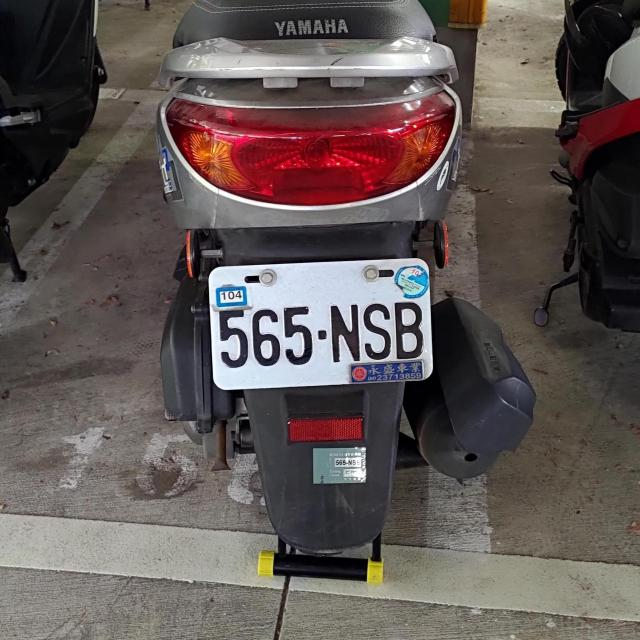W: (206, 258, 432, 390)
